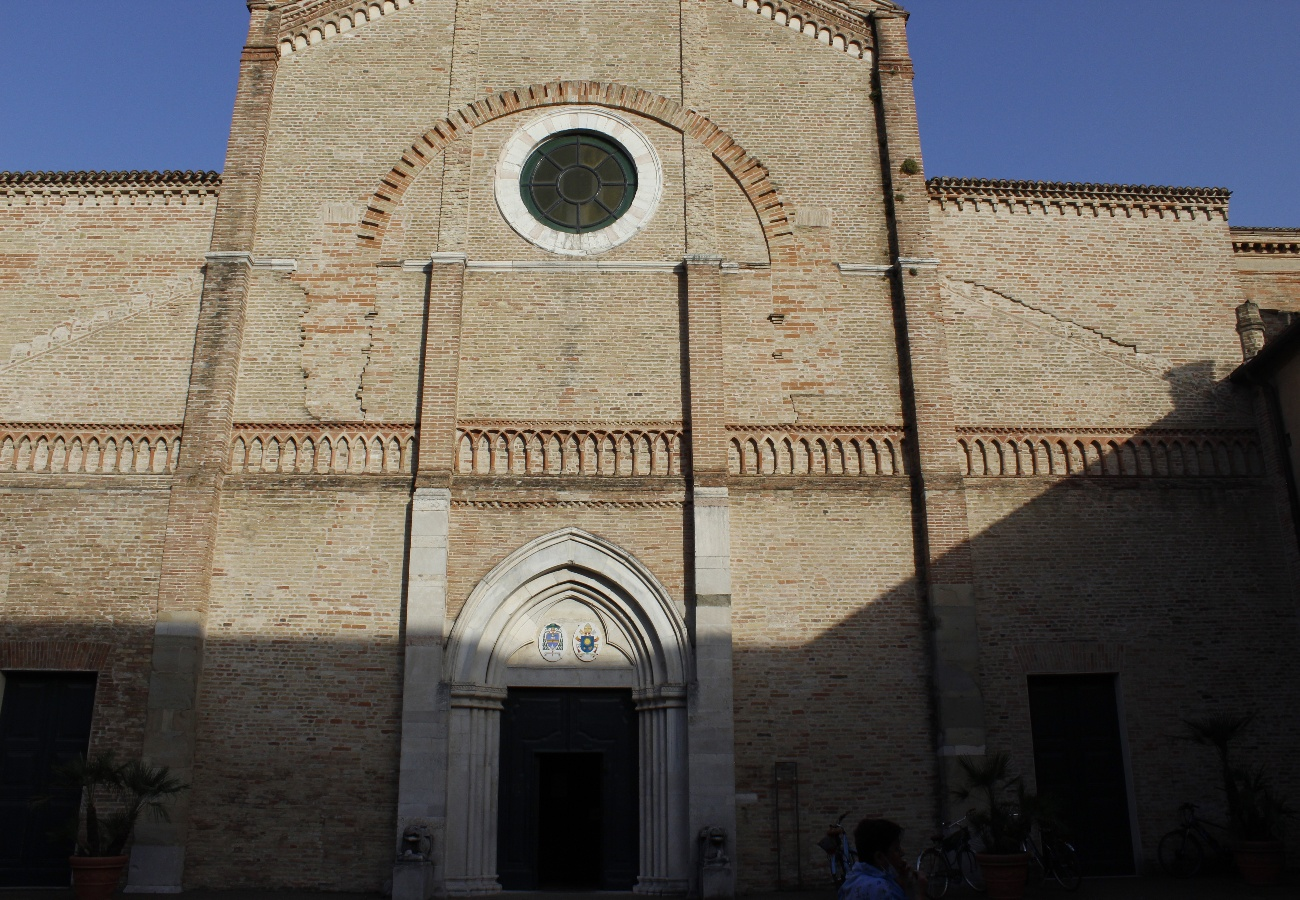Cattedrale Santa Maria Assunta: (3, 4, 1300, 900)
